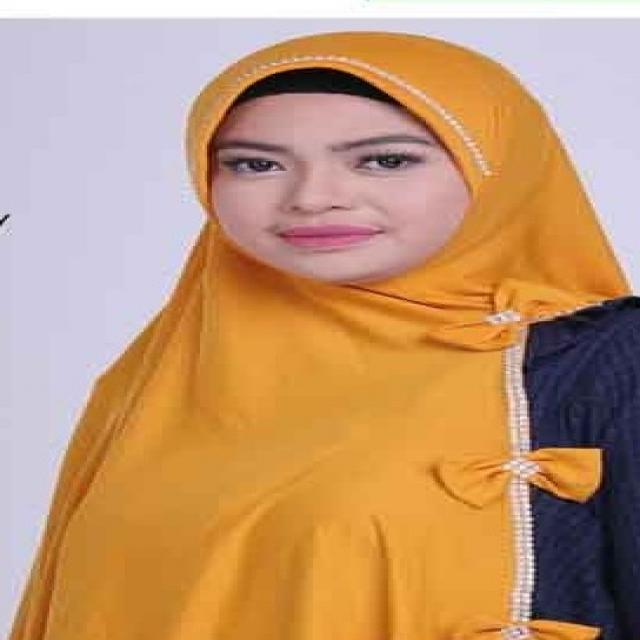head: (176, 30, 505, 292)
